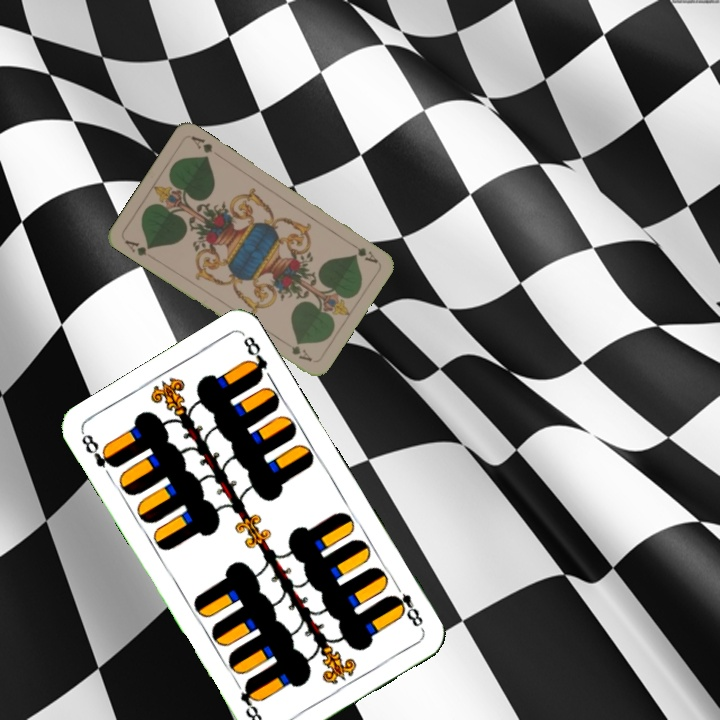E8: (386, 578, 426, 630), (77, 429, 121, 471)
GA: (344, 237, 381, 266), (121, 236, 156, 262)
